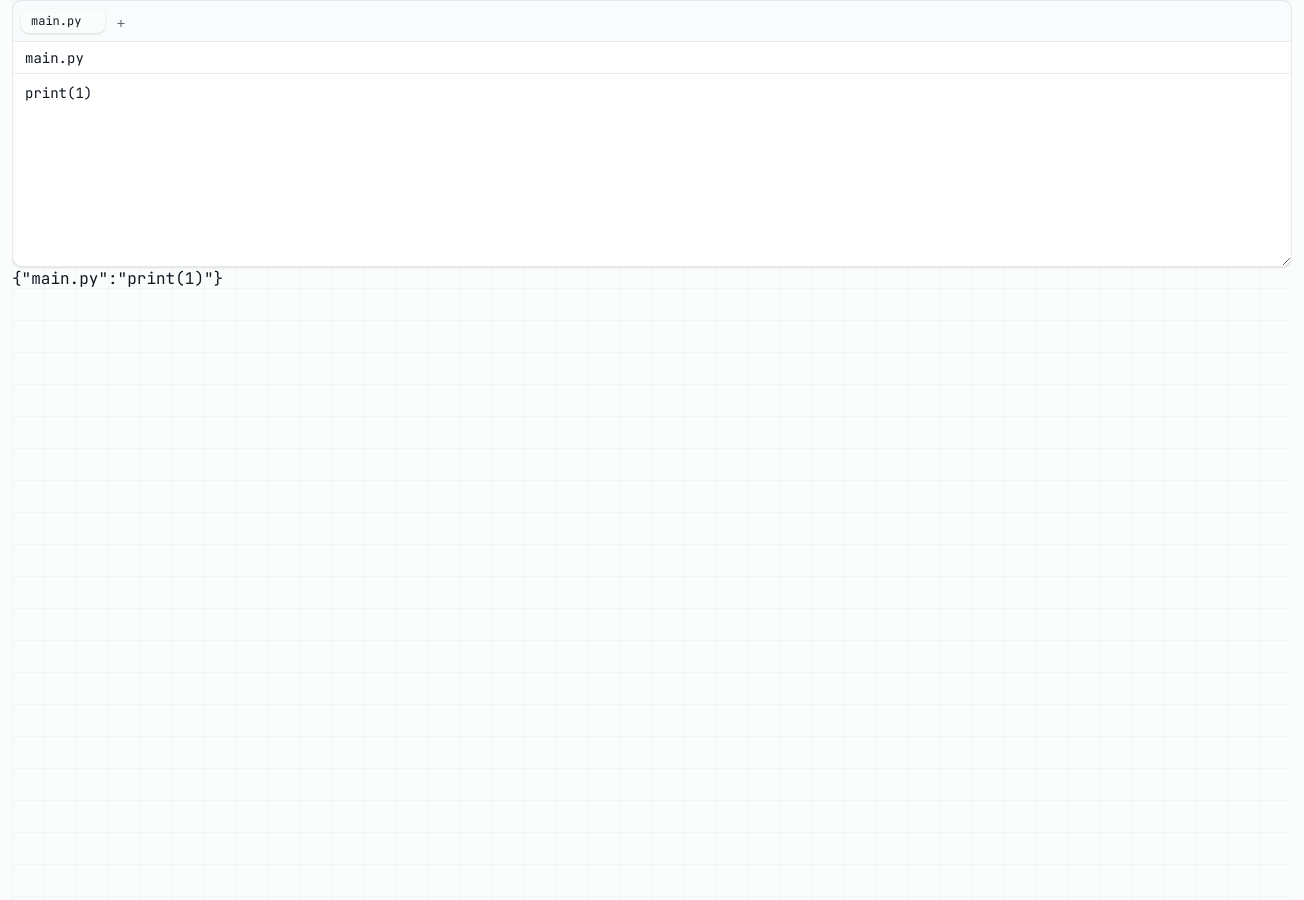
Test: MultiFileEditor › adds a file via the + tab, edits the active file, and switches between tabs
expect the number of fields named "dosya yolu" is 1: met, box [13, 42, 1291, 74]
// The + button appends a file and focuses it as the active tab.
Click the button named "dosya ekle". click: (121, 21)
box: [109, 7, 133, 35]
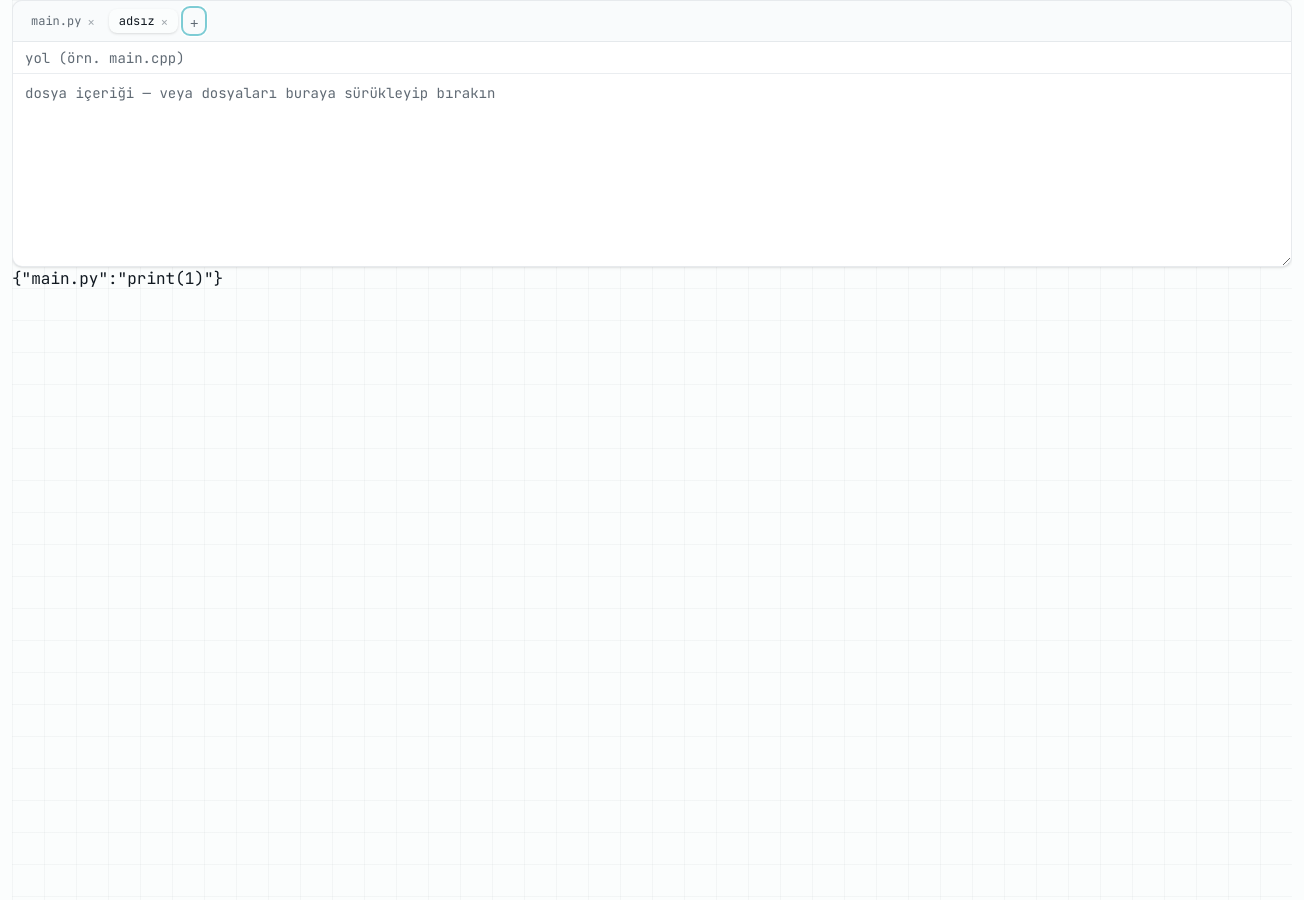
Type "util.py" into the field named "dosya yolu". click: (652, 58)
box: [13, 42, 1291, 74]
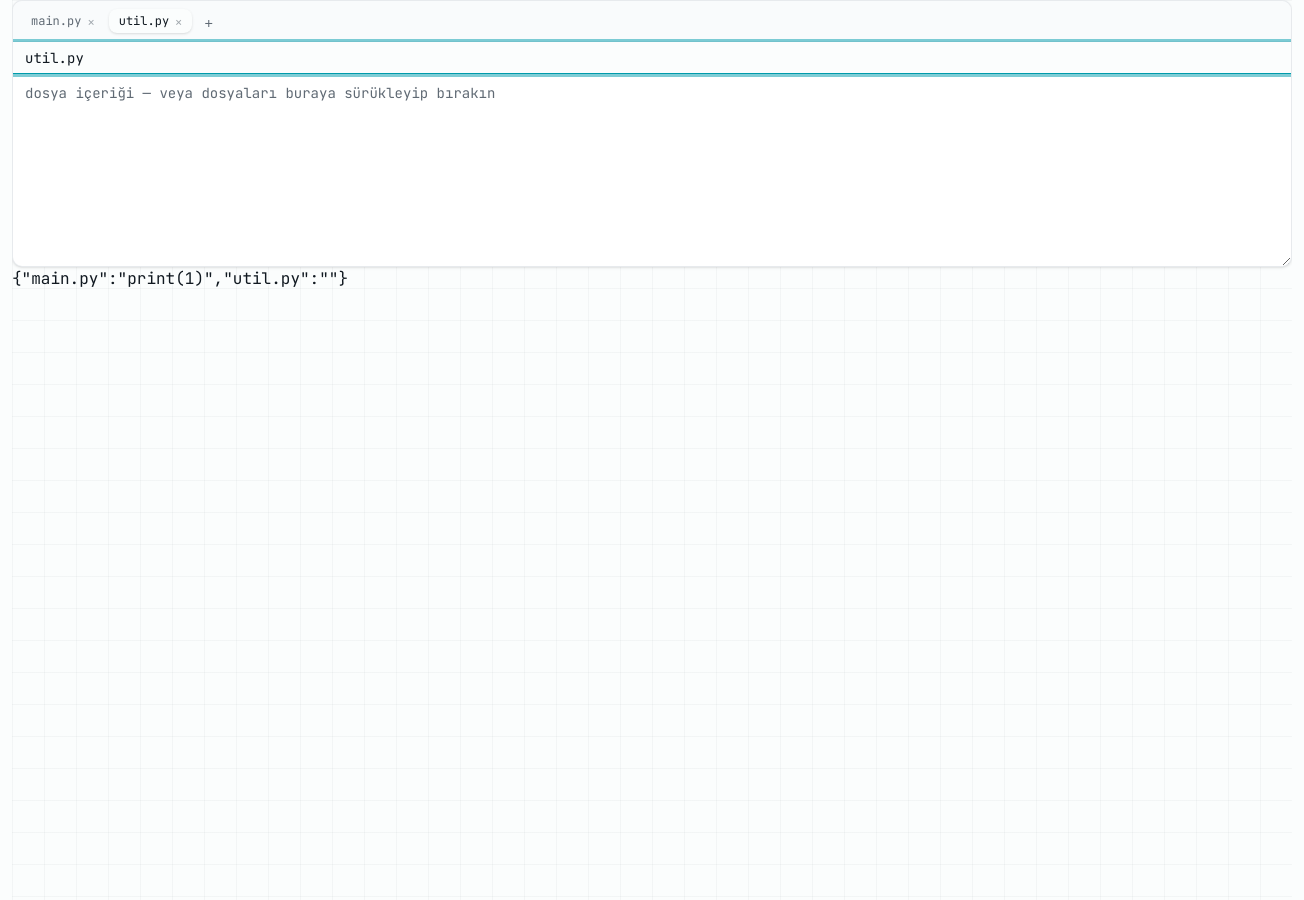
Type "x=1" into the text box labelled "dosya içeriği — veya dosyaları buraya sürükleyip bırakın". click: (652, 170)
box: [13, 74, 1291, 266]
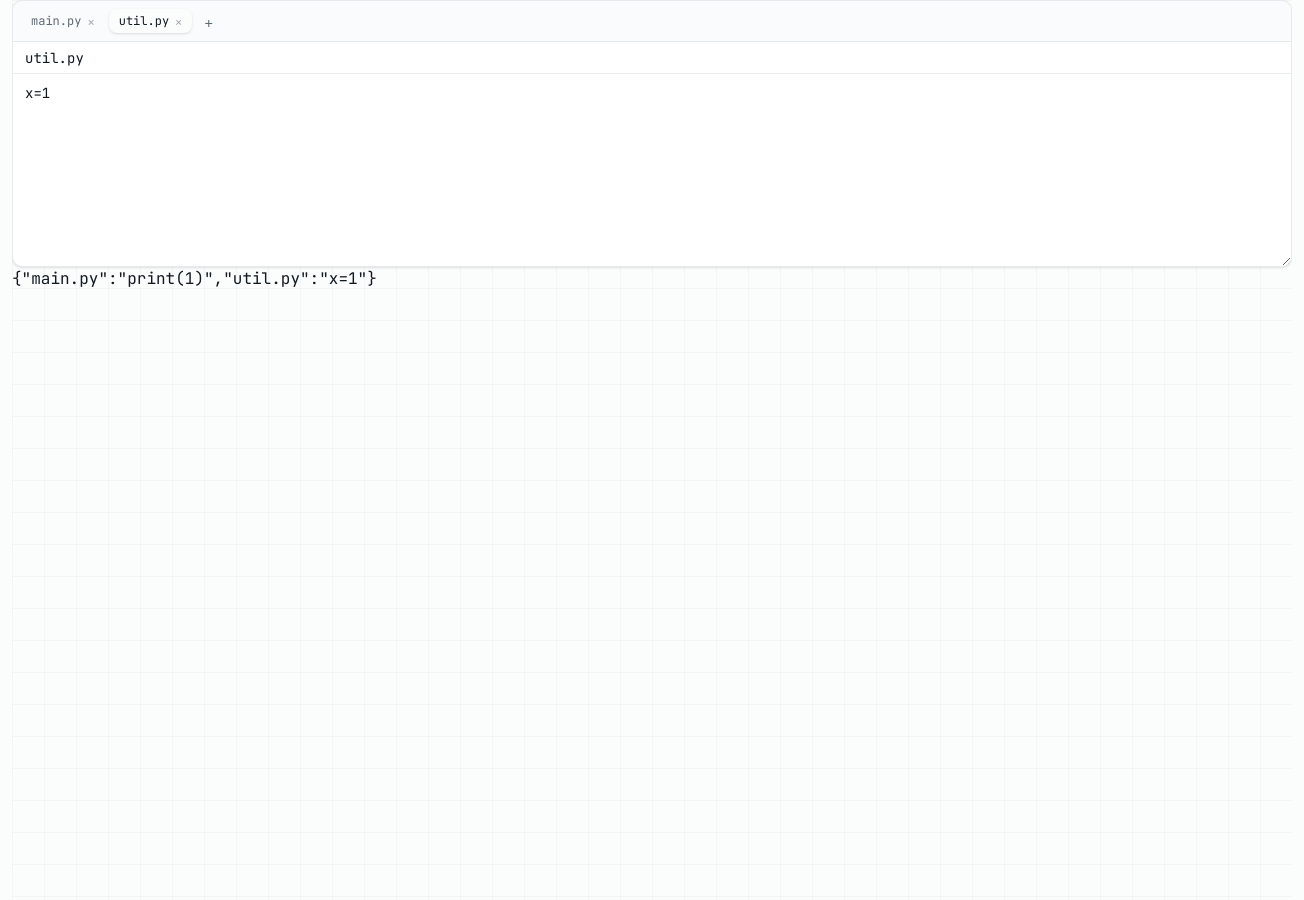
Click the button "main.py". click: (56, 21)
box: [31, 13, 81, 29]
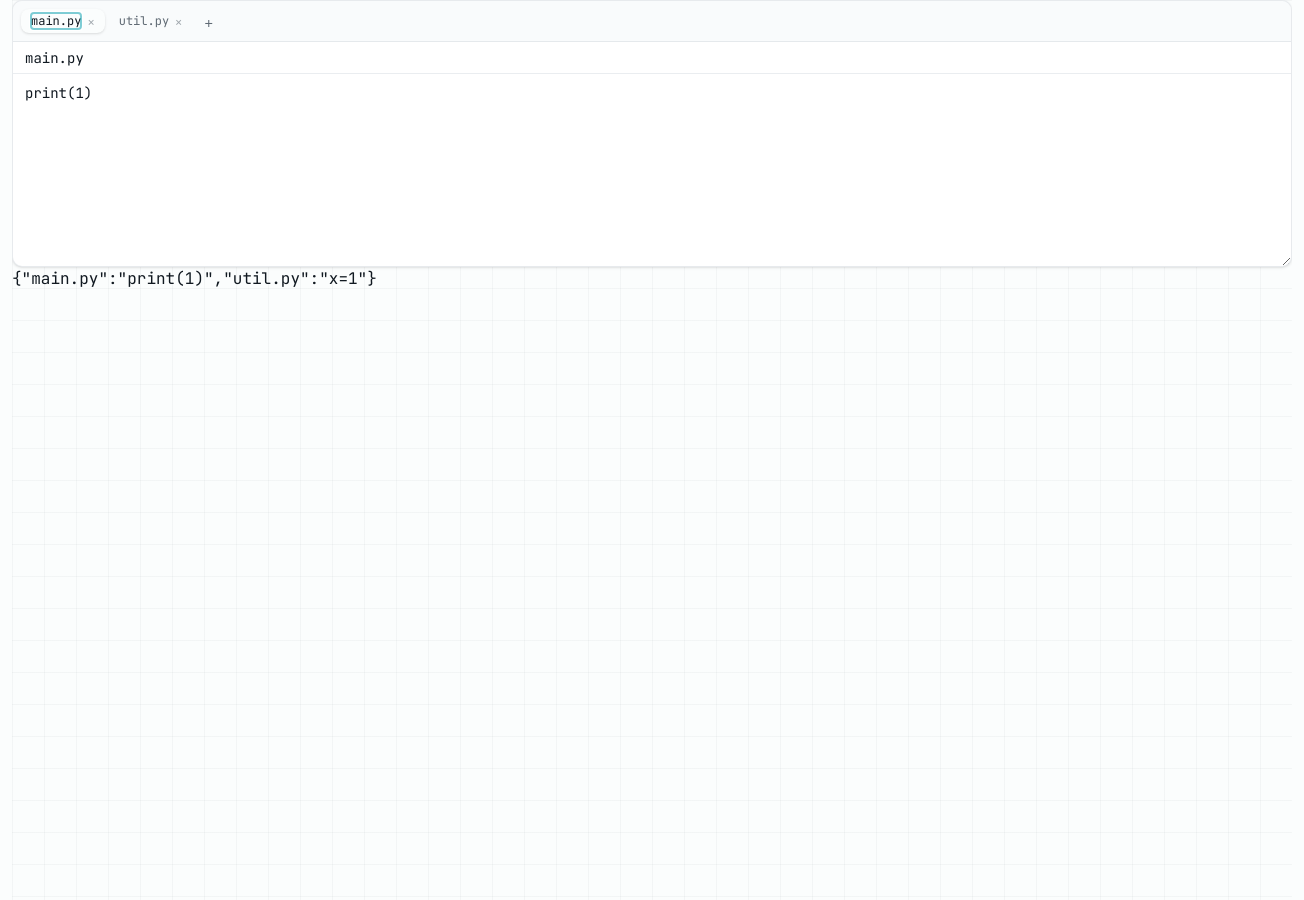
expect the text box named "dosya içeriği" holds "print(1)": met, box [13, 74, 1291, 266]
